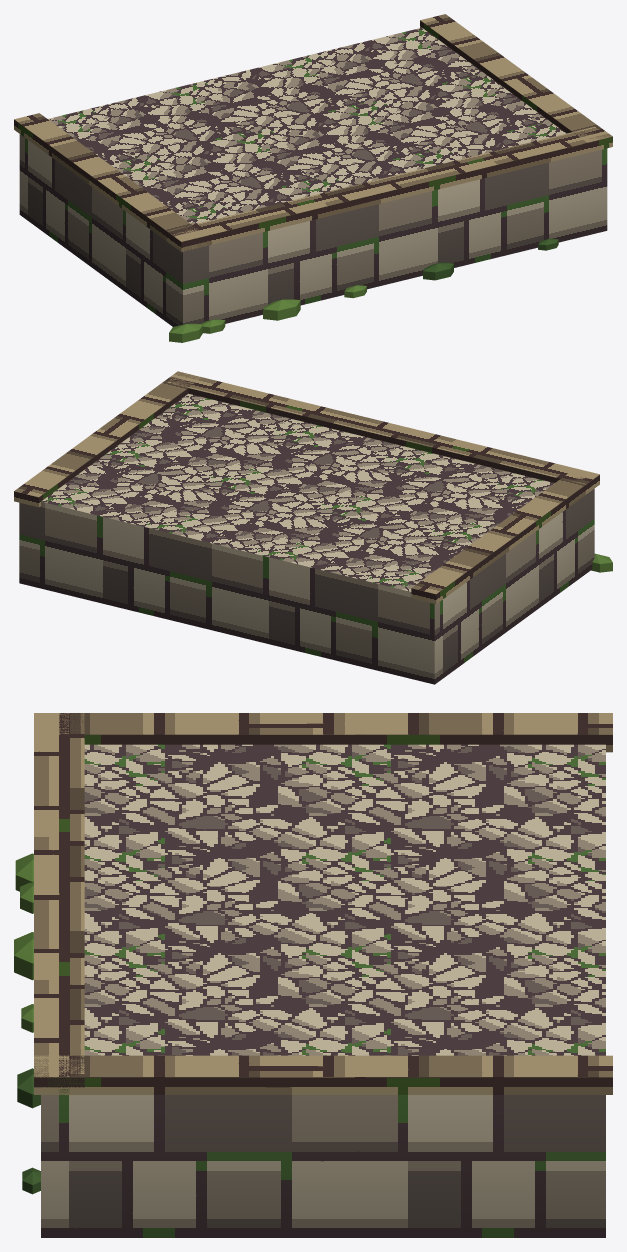
File: terrace_6x4.glb
The picture shows the model from 3 angles, top to bottom: view 1: azimuth 30°, elevation 25°; view 2: azimuth 150°, elevation 25°; view 3: azimuth 270°, elevation 25°; orthographic projection. The views are drawn at different scales.
Parts seen in each view (by area): view 1: terrace_6x4; view 2: terrace_6x4; view 3: terrace_6x4.
Part boxes in pixels (<box>): terrace_6x4: <box>14,14,612,342</box>; terrace_6x4: <box>14,371,612,684</box>; terrace_6x4: <box>14,713,612,1237</box>.
Size of the model in its own units: 6.28 by 1.37 by 4.24.
Materials: 3 (2 with a texture image).
